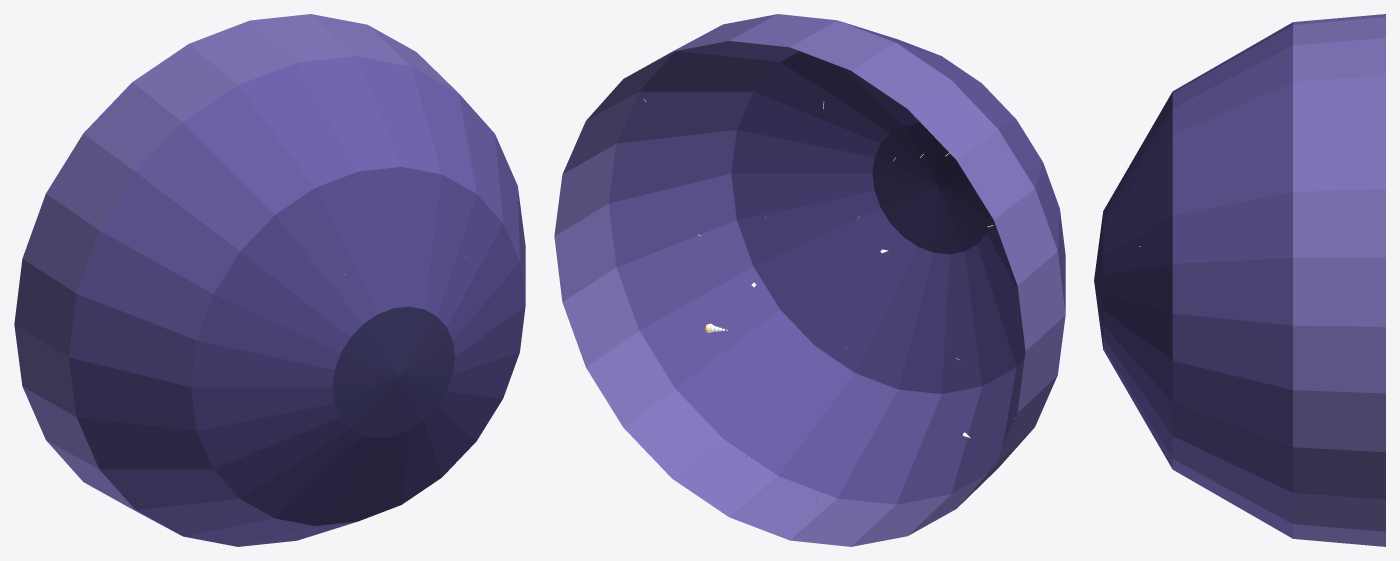
The model's file is sky_warp_day.glb.
3 renders of one model, left to right at view 1: azimuth 30°, elevation 25°; view 2: azimuth 150°, elevation 25°; view 3: azimuth 270°, elevation 25°, orthographic.
Parts seen in each view (by area): view 1: skyband1, skyband2, skyband0, skyband3; view 2: skyband1, skyband0, skyband2, skyband3; view 3: skyband1, skyband0, skyband2, skyband3.
Part boxes in pixels (box(x1,y1,x2,y2)): skyband1: box(68, 56, 525, 546); skyband2: box(191, 167, 525, 525); skyband0: box(14, 14, 457, 534); skyband3: box(332, 306, 454, 437); skyband1: box(608, 21, 1065, 504); skyband0: box(554, 14, 1065, 546); skyband2: box(731, 51, 1025, 393); skyband3: box(872, 123, 992, 254); skyband1: box(1172, 22, 1292, 538); skyband0: box(1293, 14, 1385, 546); skyband2: box(1103, 92, 1172, 468); skyband3: box(1094, 211, 1103, 349).
Bounding box in the file's own units: 179 × 179 × 97.84.
